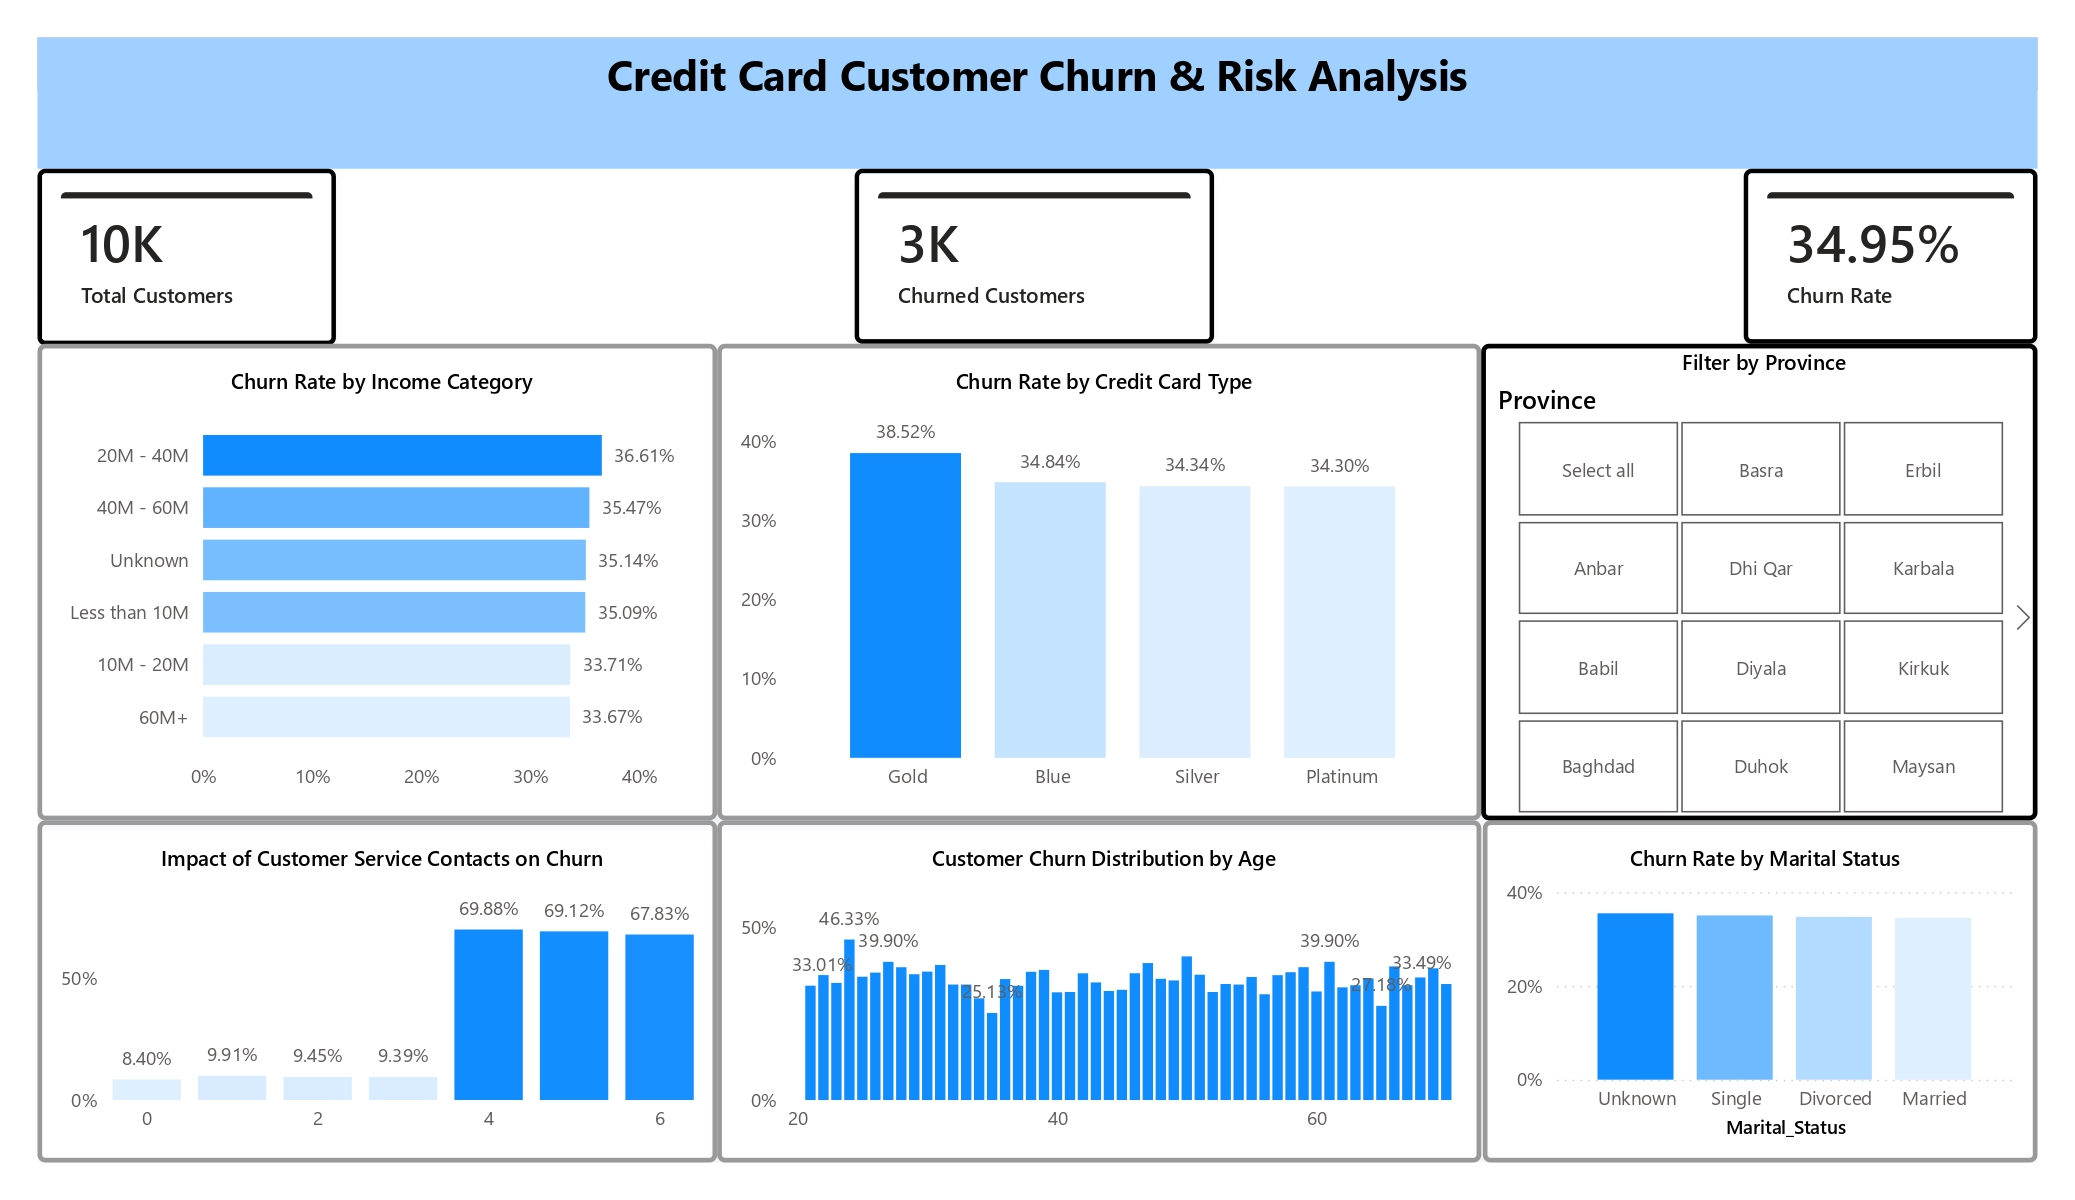

This screenshot's page, from the dashboard's own definition file:
{"tool":"powerbi","page":{"name":"Page 1","canvas":[1280,720],"ordinal":0},"visuals":[{"type":"textbox","box":[0,0,1280,84],"z":0},{"type":"cardVisual","fields":{"Data":["credit_card_churn.Total Customers"]},"box":[0,84,191.5,112.5],"z":1000},{"type":"cardVisual","fields":{"Data":["credit_card_churn.Churn Rate"]},"box":[1091.5,83.5,188.6,112.3],"z":2000},{"type":"cardVisual","fields":{"Data":["credit_card_churn.Churned Customers"]},"box":[522.7,83.5,230.4,112.3],"z":3000},{"type":"clusteredColumnChart","title":"Impact of Customer Service Contacts on Churn","fields":{"Category":["credit_card_churn.Contacts_Count_12m"],"Y":["credit_card_churn.Churn Rate"]},"box":[0,501.1,434.9,218.9],"z":4000},{"type":"clusteredBarChart","title":"Churn Rate by Income Category","fields":{"Category":["credit_card_churn.Income_Category"],"Y":["credit_card_churn.Churn Rate"]},"box":[0,195.8,434.9,305.3],"z":5000},{"type":"slicer","title":"Filter by Province","fields":{"Values":["credit_card_churn.Province"]},"box":[924.5,195.8,355.7,305.3],"z":6000},{"type":"clusteredColumnChart","title":"Customer Churn Distribution by Age","fields":{"Category":["credit_card_churn.Age"],"Y":["credit_card_churn.Churn Rate"]},"box":[434.9,501.1,489.6,218.9],"z":7000},{"type":"clusteredColumnChart","title":"Churn Rate by Credit Card Type","fields":{"Category":["credit_card_churn.Card_Category"],"Y":["credit_card_churn.Churn Rate"]},"box":[434.9,195.8,489.6,305.3],"z":8000},{"type":"clusteredColumnChart","title":"Churn Rate by Marital Status","fields":{"Y":["credit_card_churn.Churn Rate"],"Category":["credit_card_churn.Marital_Status"]},"box":[925,501,355,219],"z":9000}]}

Visuals, with their boxes in screenshot pixels (x1, y1, x2, y2):
textbox: {"left": 54, "top": 38, "right": 2028, "bottom": 167}
cardVisual - credit_card_churn.Total Customers: {"left": 54, "top": 167, "right": 349, "bottom": 341}
cardVisual - credit_card_churn.Churn Rate: {"left": 1737, "top": 167, "right": 2028, "bottom": 340}
cardVisual - credit_card_churn.Churned Customers: {"left": 860, "top": 167, "right": 1215, "bottom": 340}
"Impact of Customer Service Contacts on Churn" clusteredColumnChart: {"left": 54, "top": 811, "right": 725, "bottom": 1148}
"Churn Rate by Income Category" clusteredBarChart: {"left": 54, "top": 340, "right": 725, "bottom": 811}
"Filter by Province" slicer: {"left": 1480, "top": 340, "right": 2028, "bottom": 811}
"Customer Churn Distribution by Age" clusteredColumnChart: {"left": 725, "top": 811, "right": 1480, "bottom": 1148}
"Churn Rate by Credit Card Type" clusteredColumnChart: {"left": 725, "top": 340, "right": 1480, "bottom": 811}
"Churn Rate by Marital Status" clusteredColumnChart: {"left": 1480, "top": 810, "right": 2028, "bottom": 1148}
